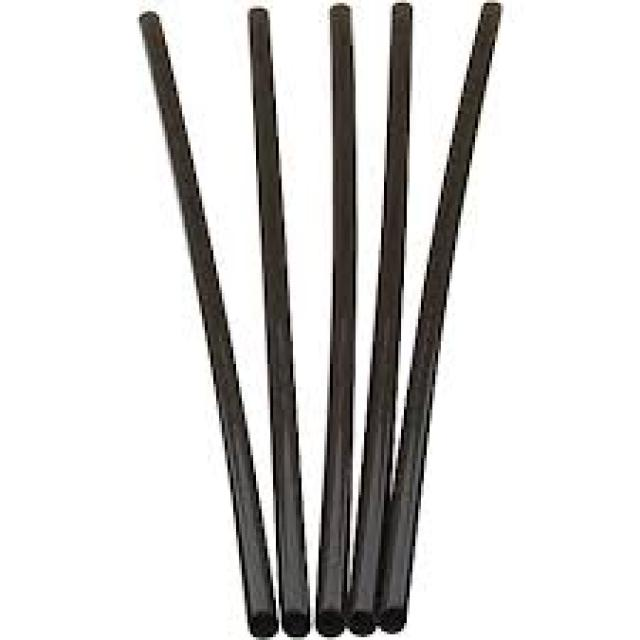straw: (139, 11, 276, 637), (378, 2, 497, 632), (349, 4, 408, 634), (253, 9, 309, 636), (316, 4, 356, 636)
